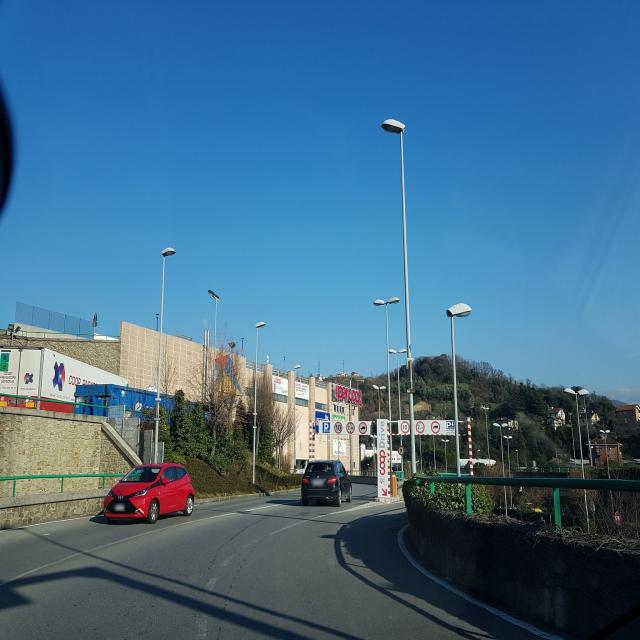car: (104, 462, 195, 524), (300, 458, 352, 506), (294, 458, 311, 475)
